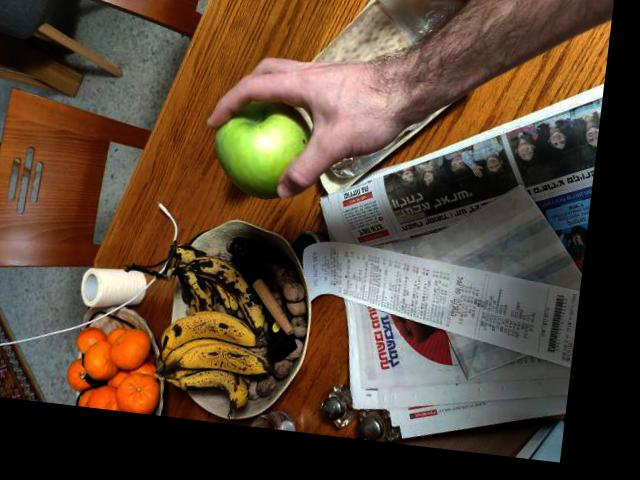apple: (201, 88, 324, 201)
